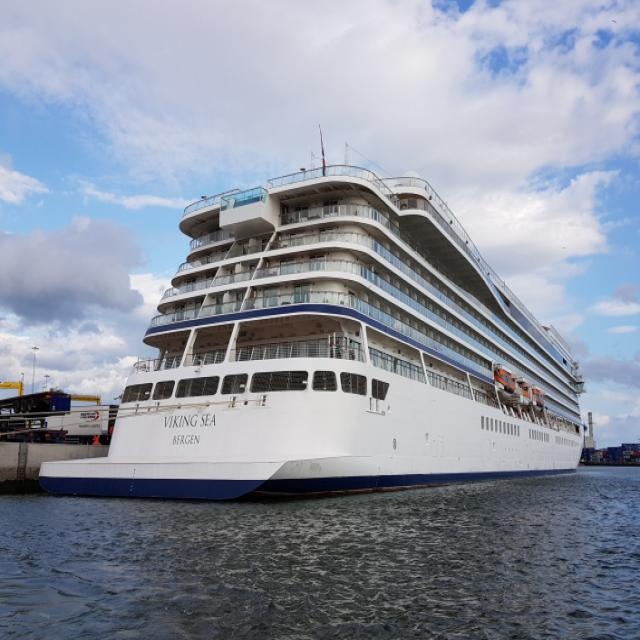cruises: (35, 154, 589, 513)
